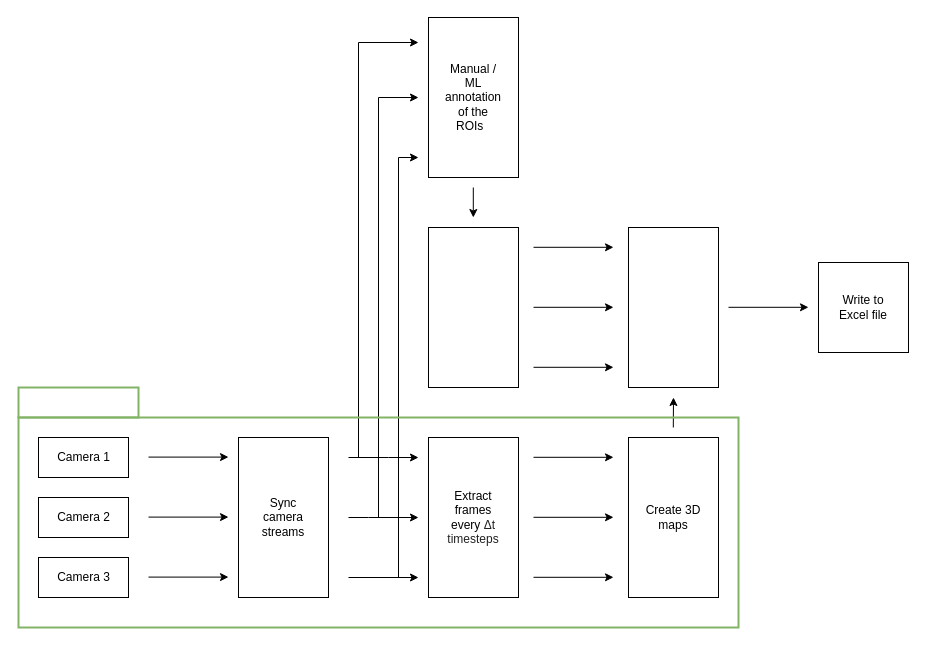
Some shapes in this 926 by 646 pixel diagram are drawn without their labels. Here are the shapes that lost their labels. From the top down, the centre of each, then its label:
point (473, 307): Add annotation data
point (673, 307): Extract 3D positions in time
point (78, 402): Pre-processing
